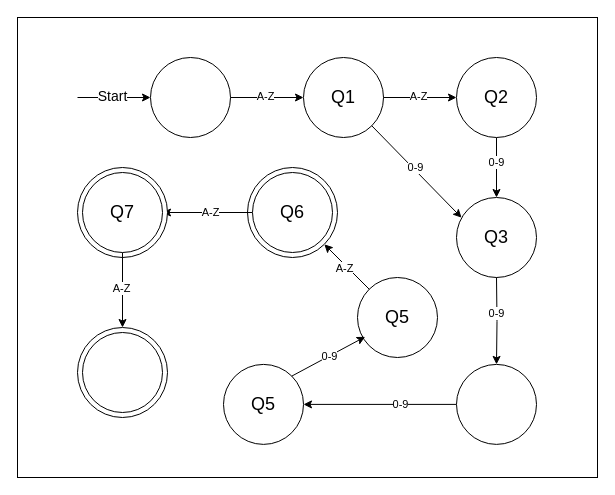
This 615x495 diagram has some shape labels left out. Each missing label, with the centre of its shape:
"Q0" belongs at pixel 190 97.
"Q4" belongs at pixel 496 403.
"Q8" belongs at pixel 122 372.
